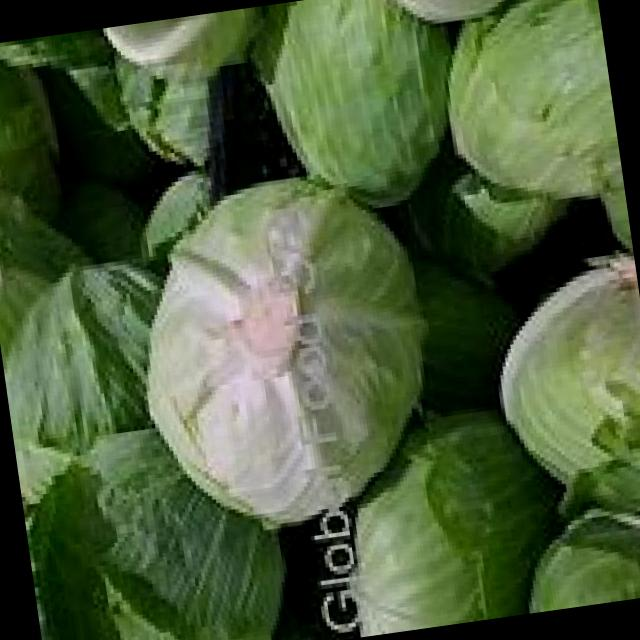cabbage: (124, 160, 443, 534)
